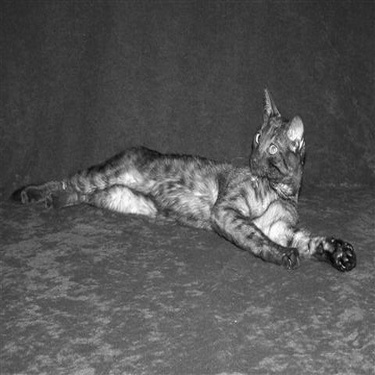cat: (1, 91, 363, 289)
